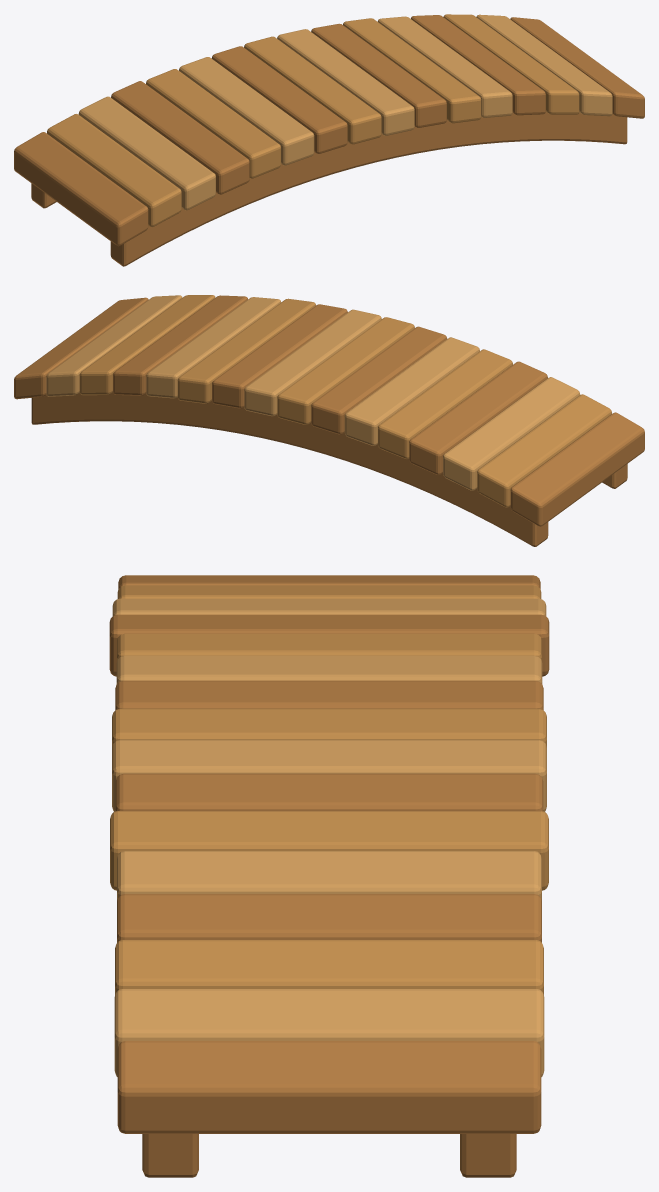
File: ponte-piso.glb
3 views of the same model, one above another, from view 1: azimuth 30°, elevation 25°; view 2: azimuth 150°, elevation 25°; view 3: azimuth 270°, elevation 25° (orthographic). The views are drawn at different scales.
Visible parts, largest first — view 1: ponte-piso; view 2: ponte-piso; view 3: ponte-piso.
Boxes of the visible parts, x1,y1,x2,y2 form: ponte-piso: [14, 14, 644, 266]; ponte-piso: [14, 295, 644, 546]; ponte-piso: [109, 575, 549, 1177].
Bounding box in the file's own units: 3.46 × 0.6124 × 1.24.
